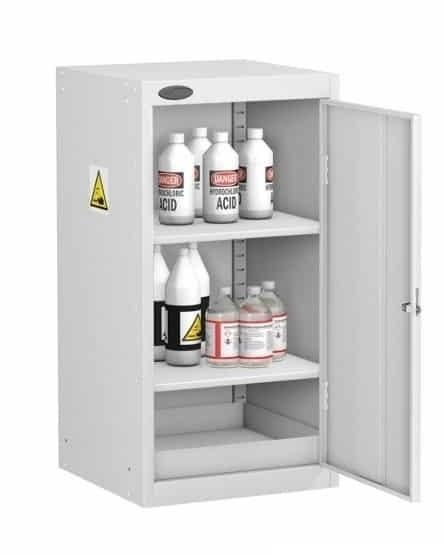cabinet_door: (322, 107, 423, 487)
handle: (413, 290, 424, 321)
